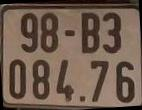-: (65, 30, 74, 36)
.: (80, 97, 85, 101)
0: (10, 59, 26, 99)
3: (103, 12, 121, 54)
4: (57, 59, 74, 102)
7: (90, 60, 110, 101), (116, 61, 135, 102)
8: (41, 12, 58, 52), (33, 60, 49, 99)
9: (21, 14, 38, 51)
B: (82, 13, 100, 53)
